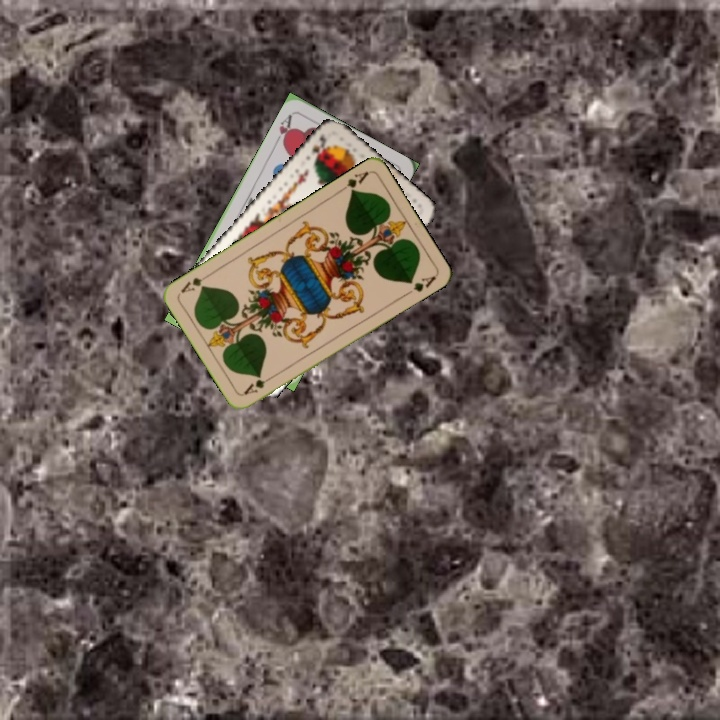GA: (335, 167, 371, 196), (240, 371, 276, 397)
HA: (270, 110, 296, 148)
SK: (301, 131, 330, 164)
